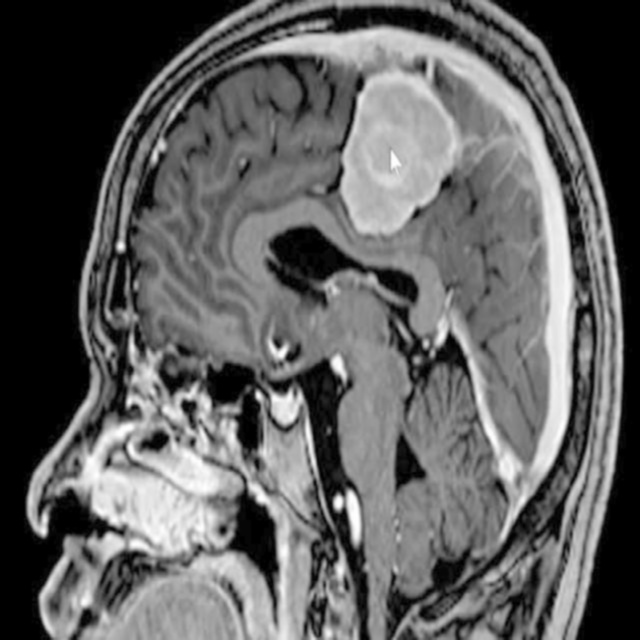meningioma tumor: (318, 59, 473, 262)
